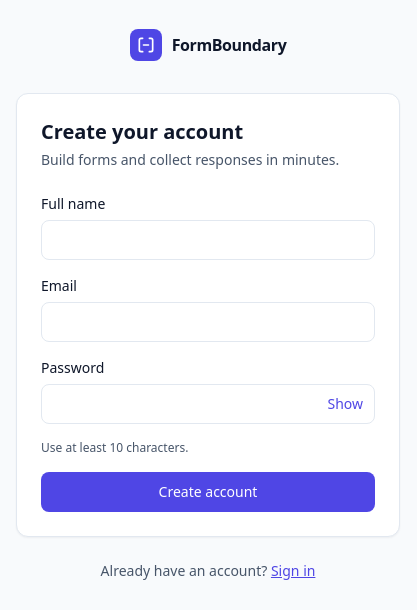
Scenario: register page › validates the password length on the client
This screenshot has width=417, height=610.
Type "Raja" into the field labelled "Full name" at (208, 240), box [41, 220, 375, 260]
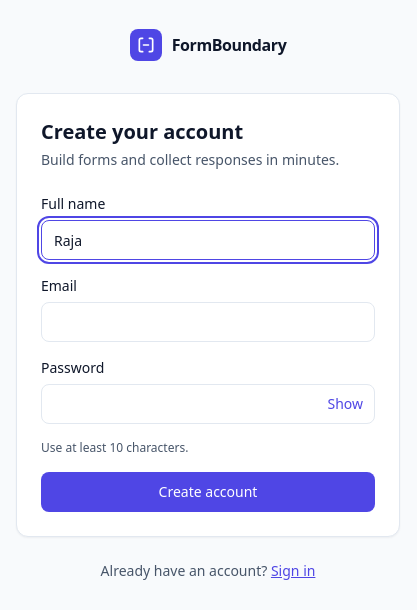
Type "raja@example.com" into the field labelled "Email" at (208, 322), box [41, 302, 375, 342]
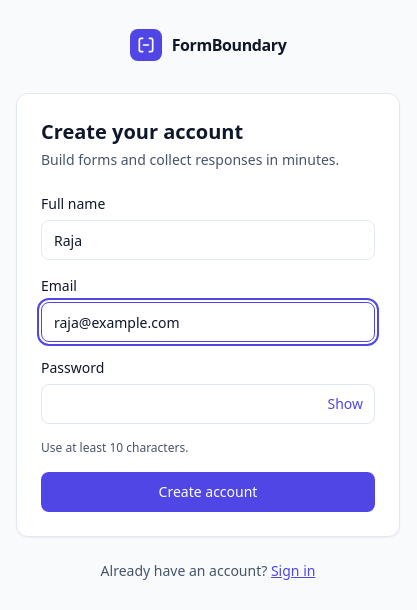
Type "short" into the password field labelled "Password" at (208, 404), box [41, 384, 375, 424]
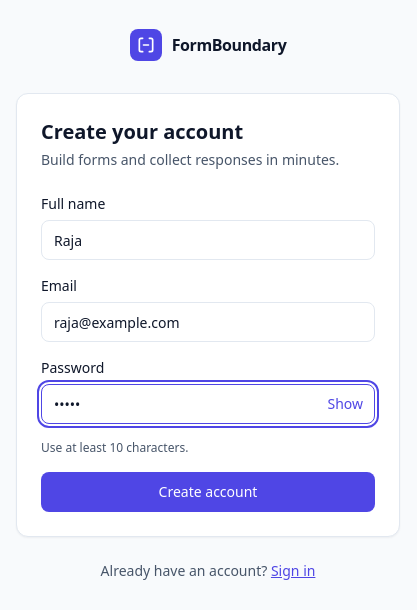
Click the button "Create account" at (208, 492), box [41, 472, 375, 512]
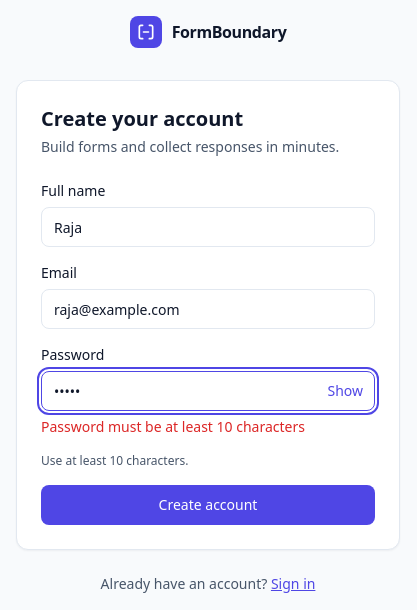
Result: the text "Password must be at least 10 characters" is shown at [41, 417, 305, 436]
